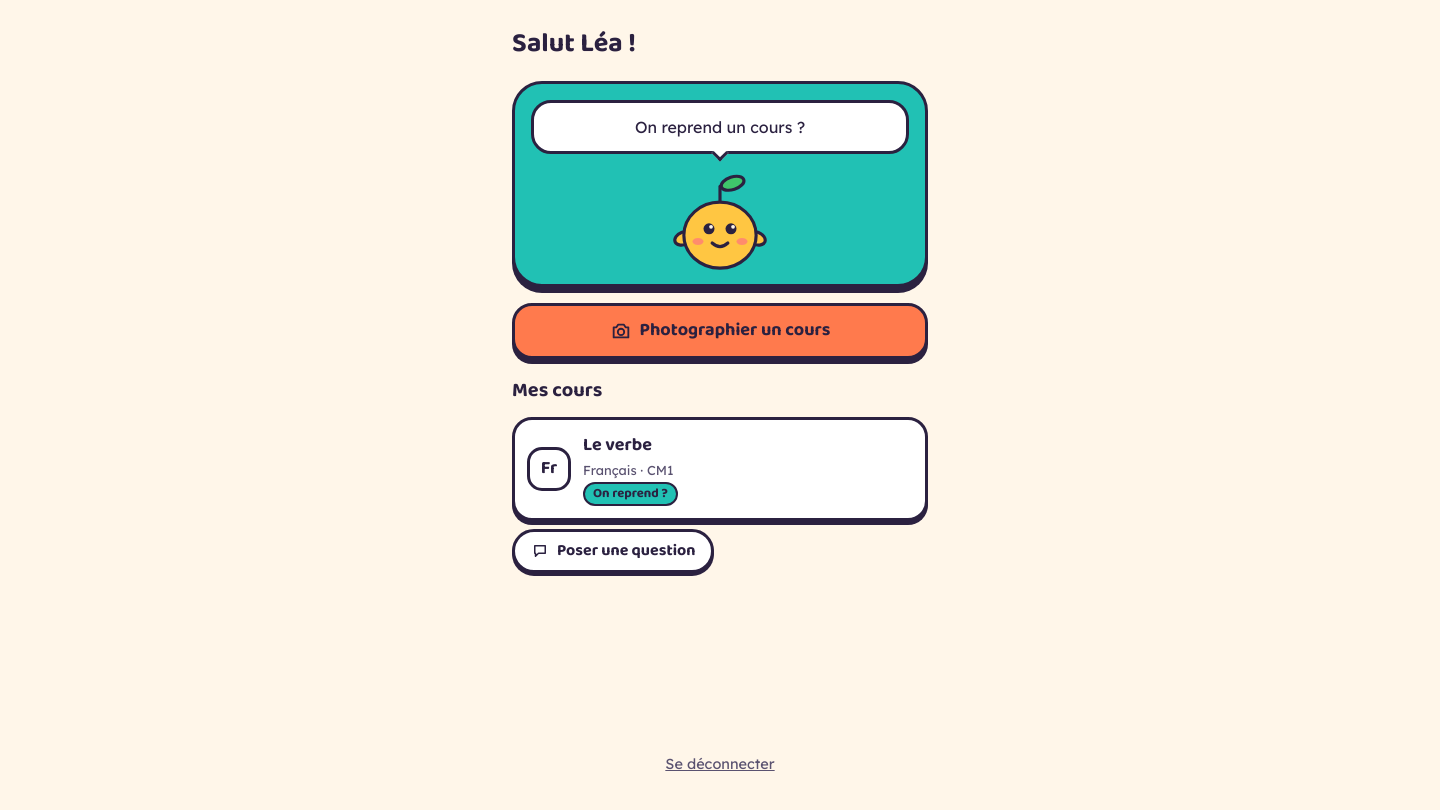
MainScreens: the tutor › the reader's « Poser une question » opens the tutor; the tabs go back and forth
Click the button "Fr Le verbe Français · CM1 On reprend ?". click: (549, 468)
box: [512,416,928,520]
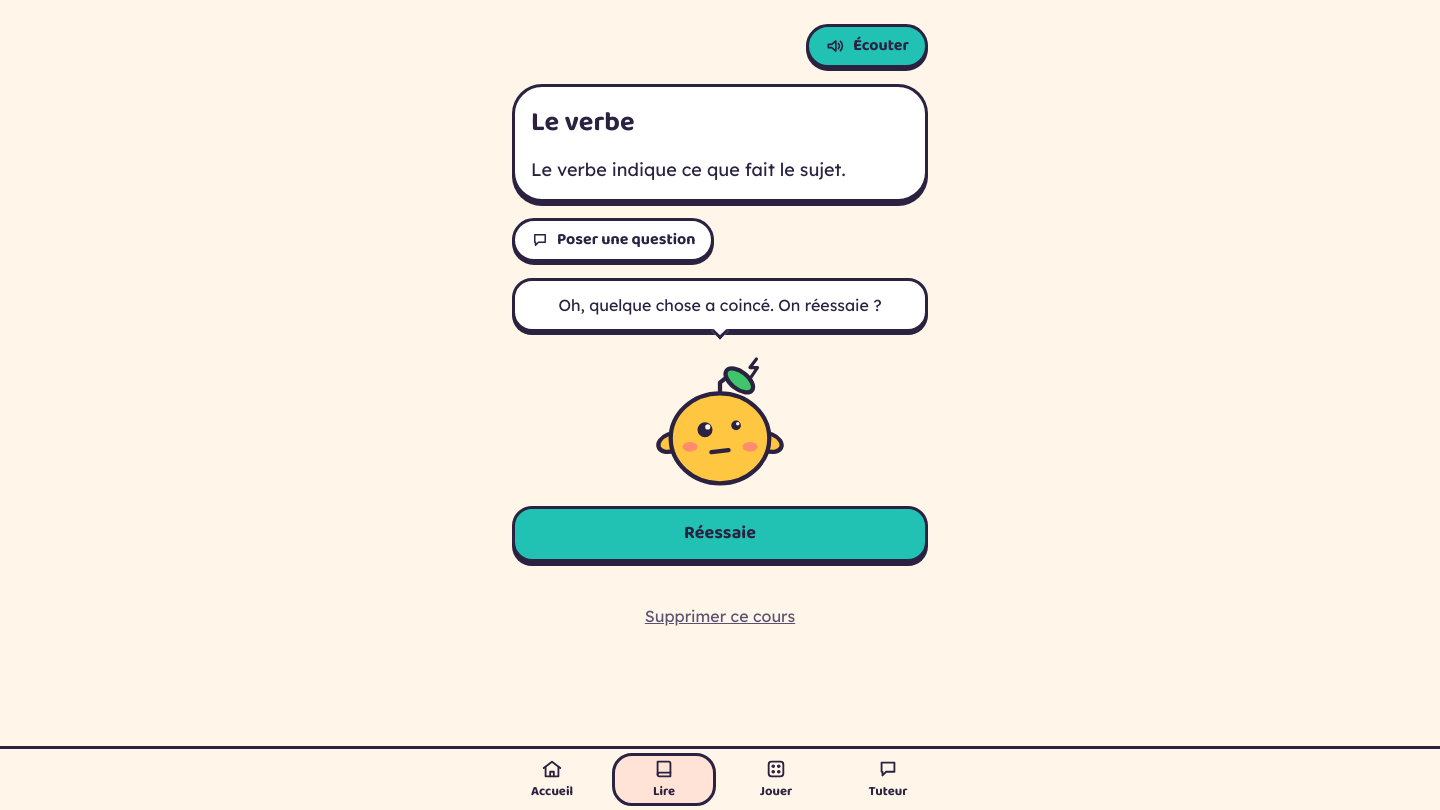
Now the text "Le verbe indique ce que fait le sujet." is shown, box [531,158,846,180]
Click the button "Poser une question". click: (613, 240)
box: [512,218,714,262]
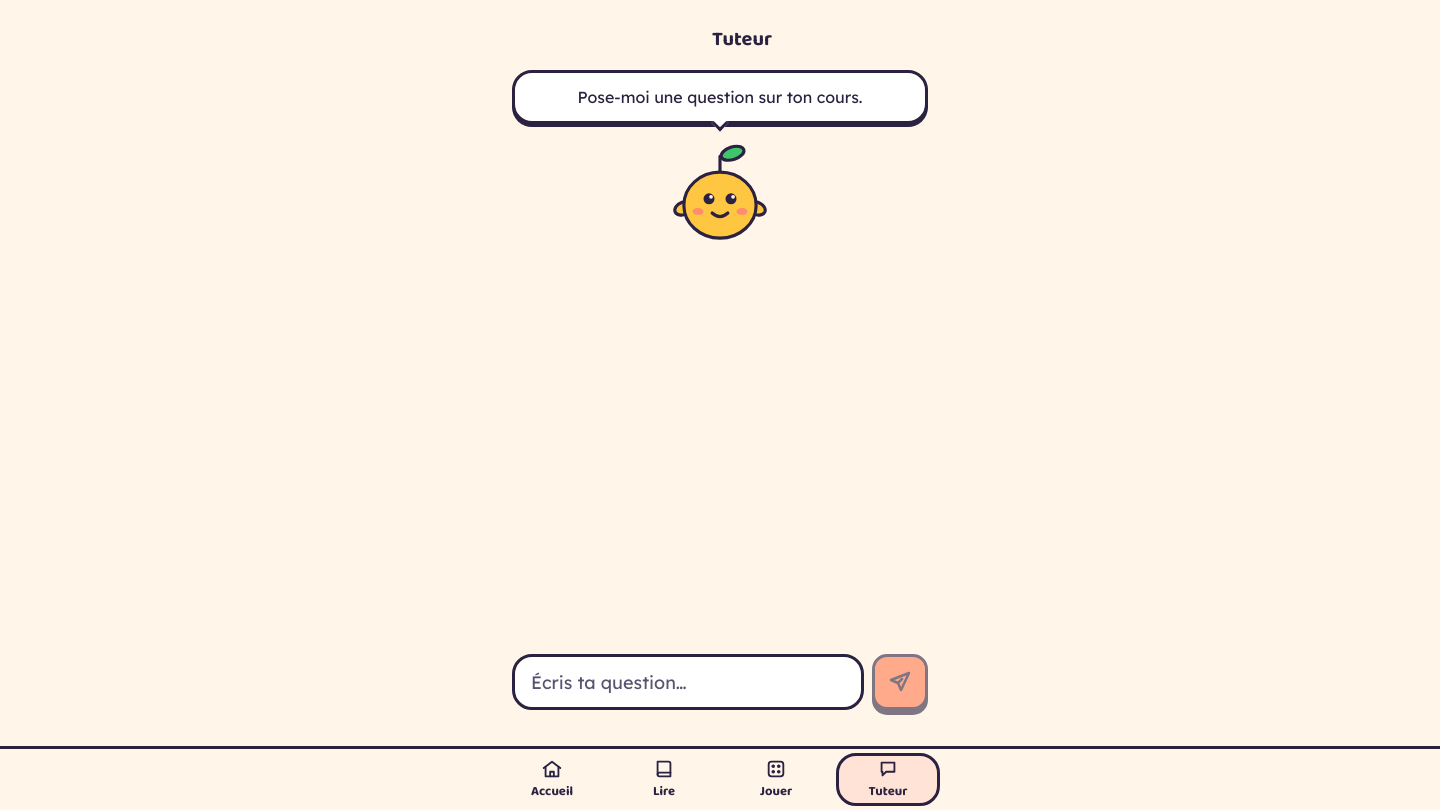
Now the field labelled "Écris ta question…" is shown, box [512,654,864,710]
Click the button "Lire". click: (664, 779)
box: [608,748,720,809]
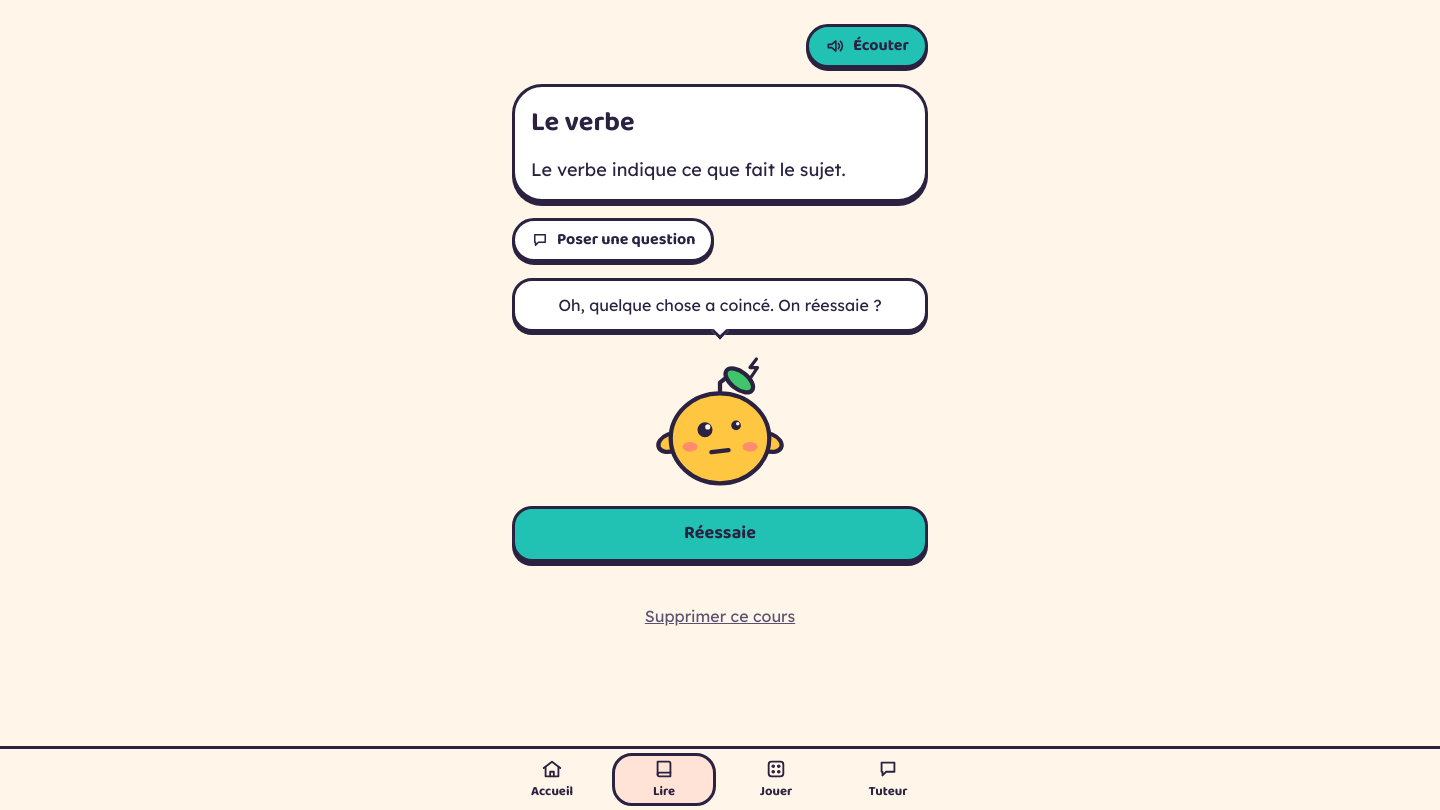
Now the text "Le verbe indique ce que fait le sujet." is shown, box [531,158,846,180]
Click the button "Tuteur". click: (888, 779)
box: [832,748,944,809]
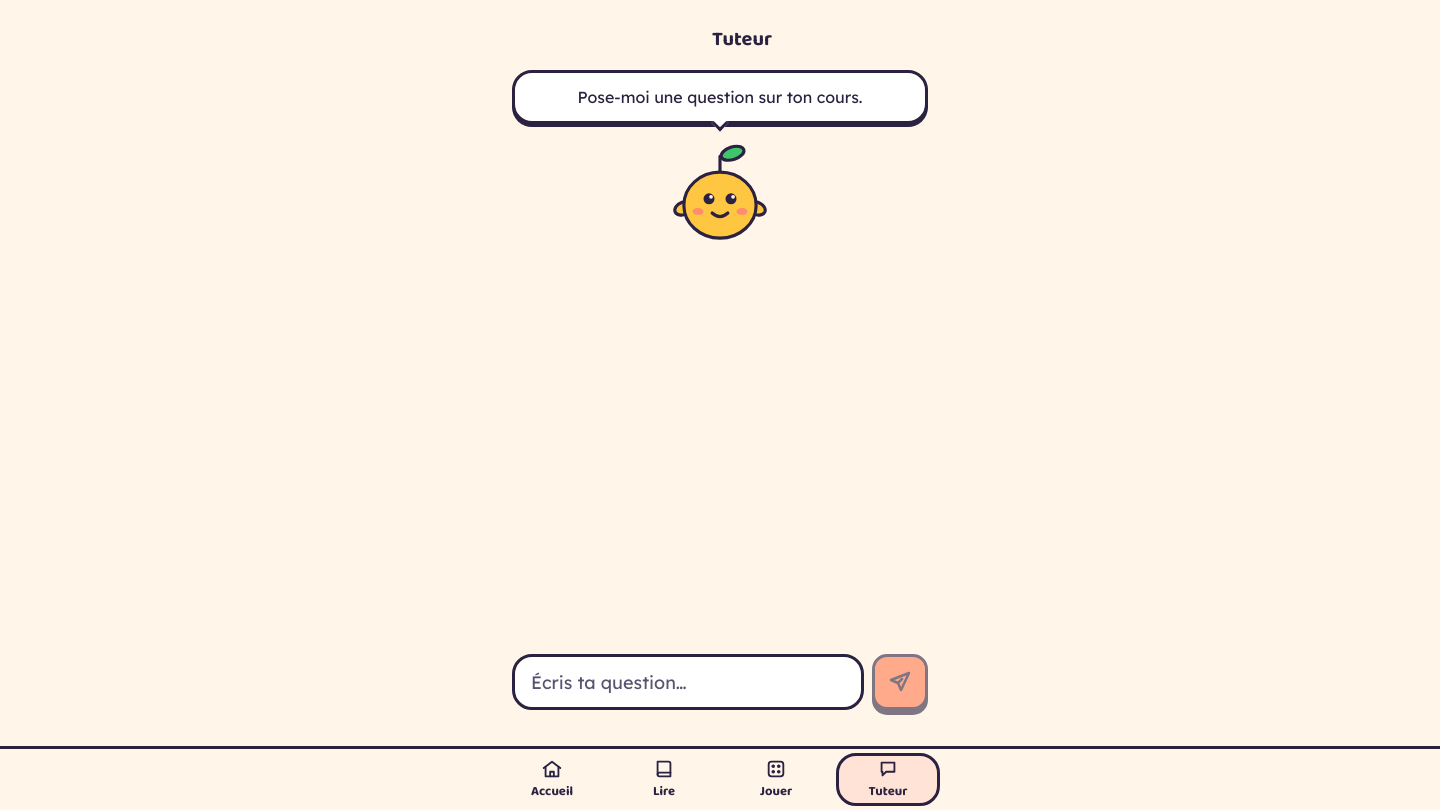
Now the field labelled "Écris ta question…" is shown, box [512,654,864,710]
